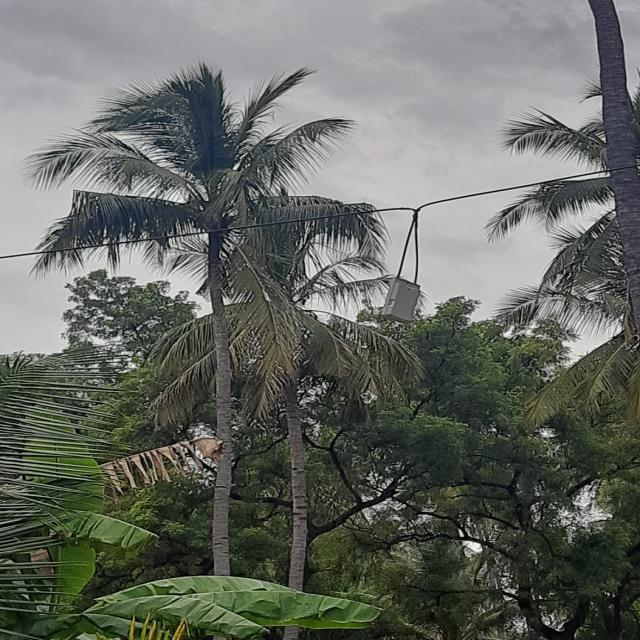Coconut-tree: (74, 82, 274, 602), (237, 176, 375, 632)
